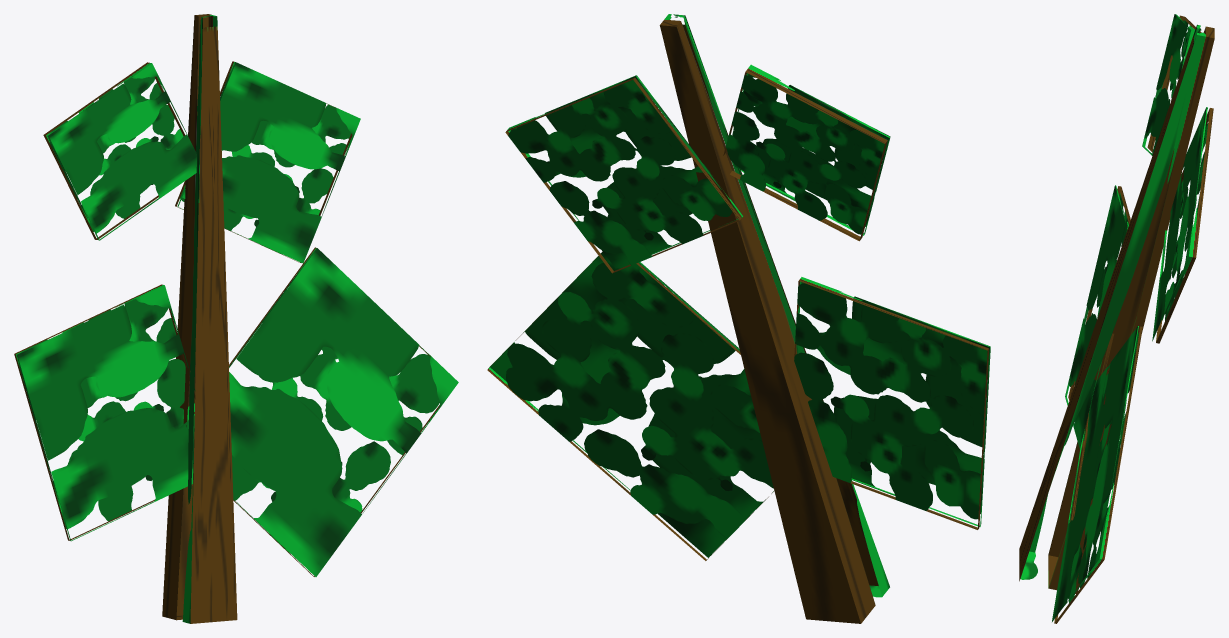
The model's file is object_fir_tree_needles_2.obj.
3 renders of one model, left to right at view 1: azimuth 30°, elevation 25°; view 2: azimuth 150°, elevation 25°; view 3: azimuth 270°, elevation 25°, orthographic. The views are drawn at different scales.
Parts seen in each view (by area): view 1: Cube.002, Cube.004, Cube, Cube.003, Cube.001; view 2: Cube.002, Cube, Cube.004, Cube.003, Cube.001; view 3: Cube, Cube.002, Cube.003, Cube.004, Cube.001.
Part boxes in pixels (x1,y1,x2,y2): Cube.002: (188,247,458,576); Cube.004: (14,284,195,541); Cube: (162,14,237,623); Cube.003: (175,61,360,263); Cube.001: (43,62,199,240); Cube.002: (487,251,773,560); Cube: (659,14,889,623); Cube.004: (794,277,990,529); Cube.003: (505,75,743,273); Cube.001: (723,64,890,241); Cube: (1019,24,1214,593); Cube.002: (1052,326,1142,623); Cube.003: (1152,107,1213,343); Cube.004: (1065,185,1130,450); Cube.001: (1142,14,1201,155).
Size of the model in its own units: 4.14 by 4.94 by 1.47.
